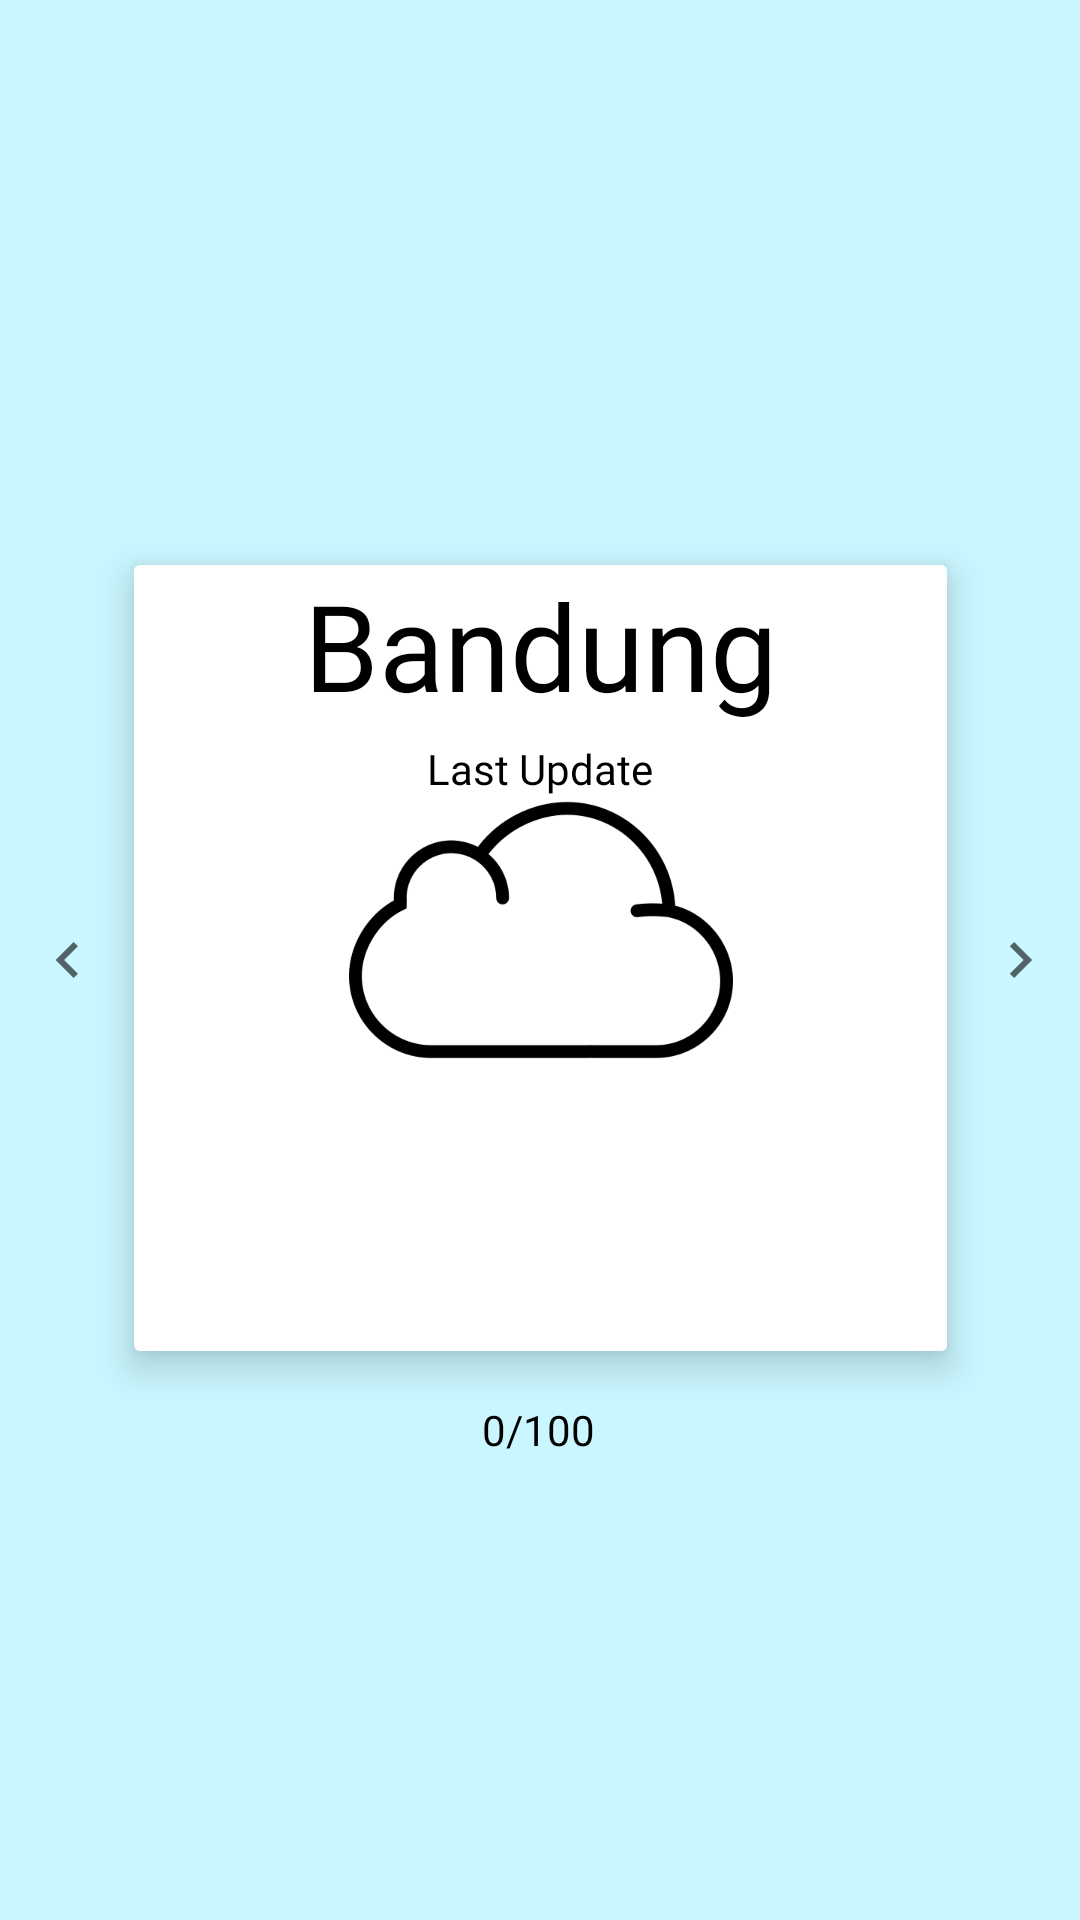

Screen size 1080*1920. Icon name, then its center in pixels as (x=x, y=y):
navigate before: (x=67, y=960)
navigate next: (x=1021, y=960)
